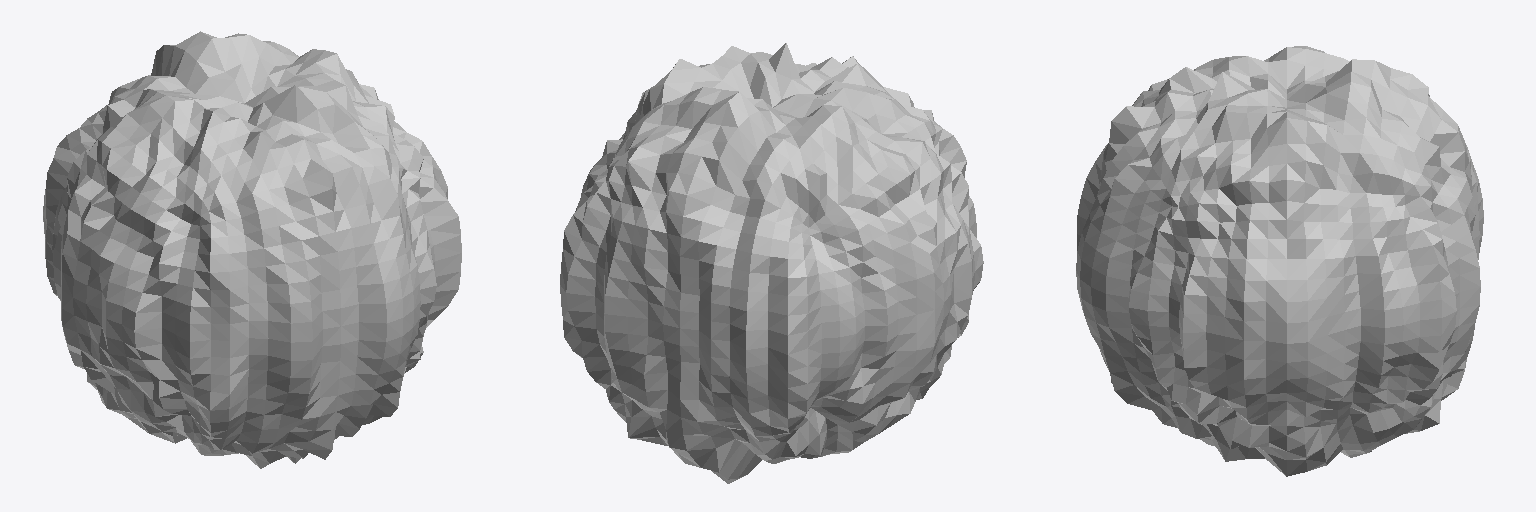
Rendered from asteroid149.obj.
The picture shows the model from 3 angles: view 1: azimuth 30°, elevation 25°; view 2: azimuth 150°, elevation 25°; view 3: azimuth 270°, elevation 25°; orthographic projection.
Parts seen in each view (by area): view 1: Cube_Cube.002; view 2: Cube_Cube.002; view 3: Cube_Cube.002.
Boxes of the visible parts, x1,y1,x2,y2 form: Cube_Cube.002: [43, 31, 461, 468]; Cube_Cube.002: [560, 43, 983, 483]; Cube_Cube.002: [1076, 46, 1483, 476].
Size of the model in its own units: 1.77 by 1.81 by 1.74.